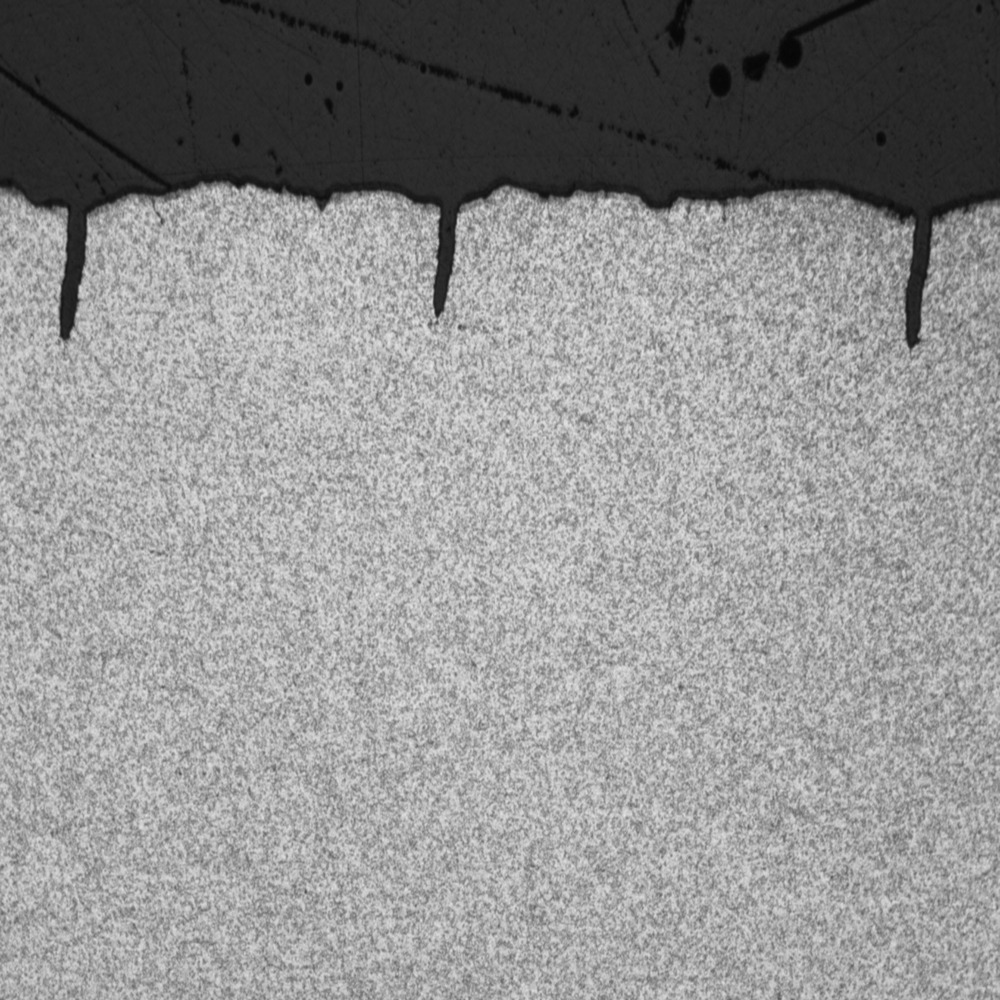crack: (885, 185, 939, 368), (415, 191, 478, 333), (49, 187, 97, 361)
